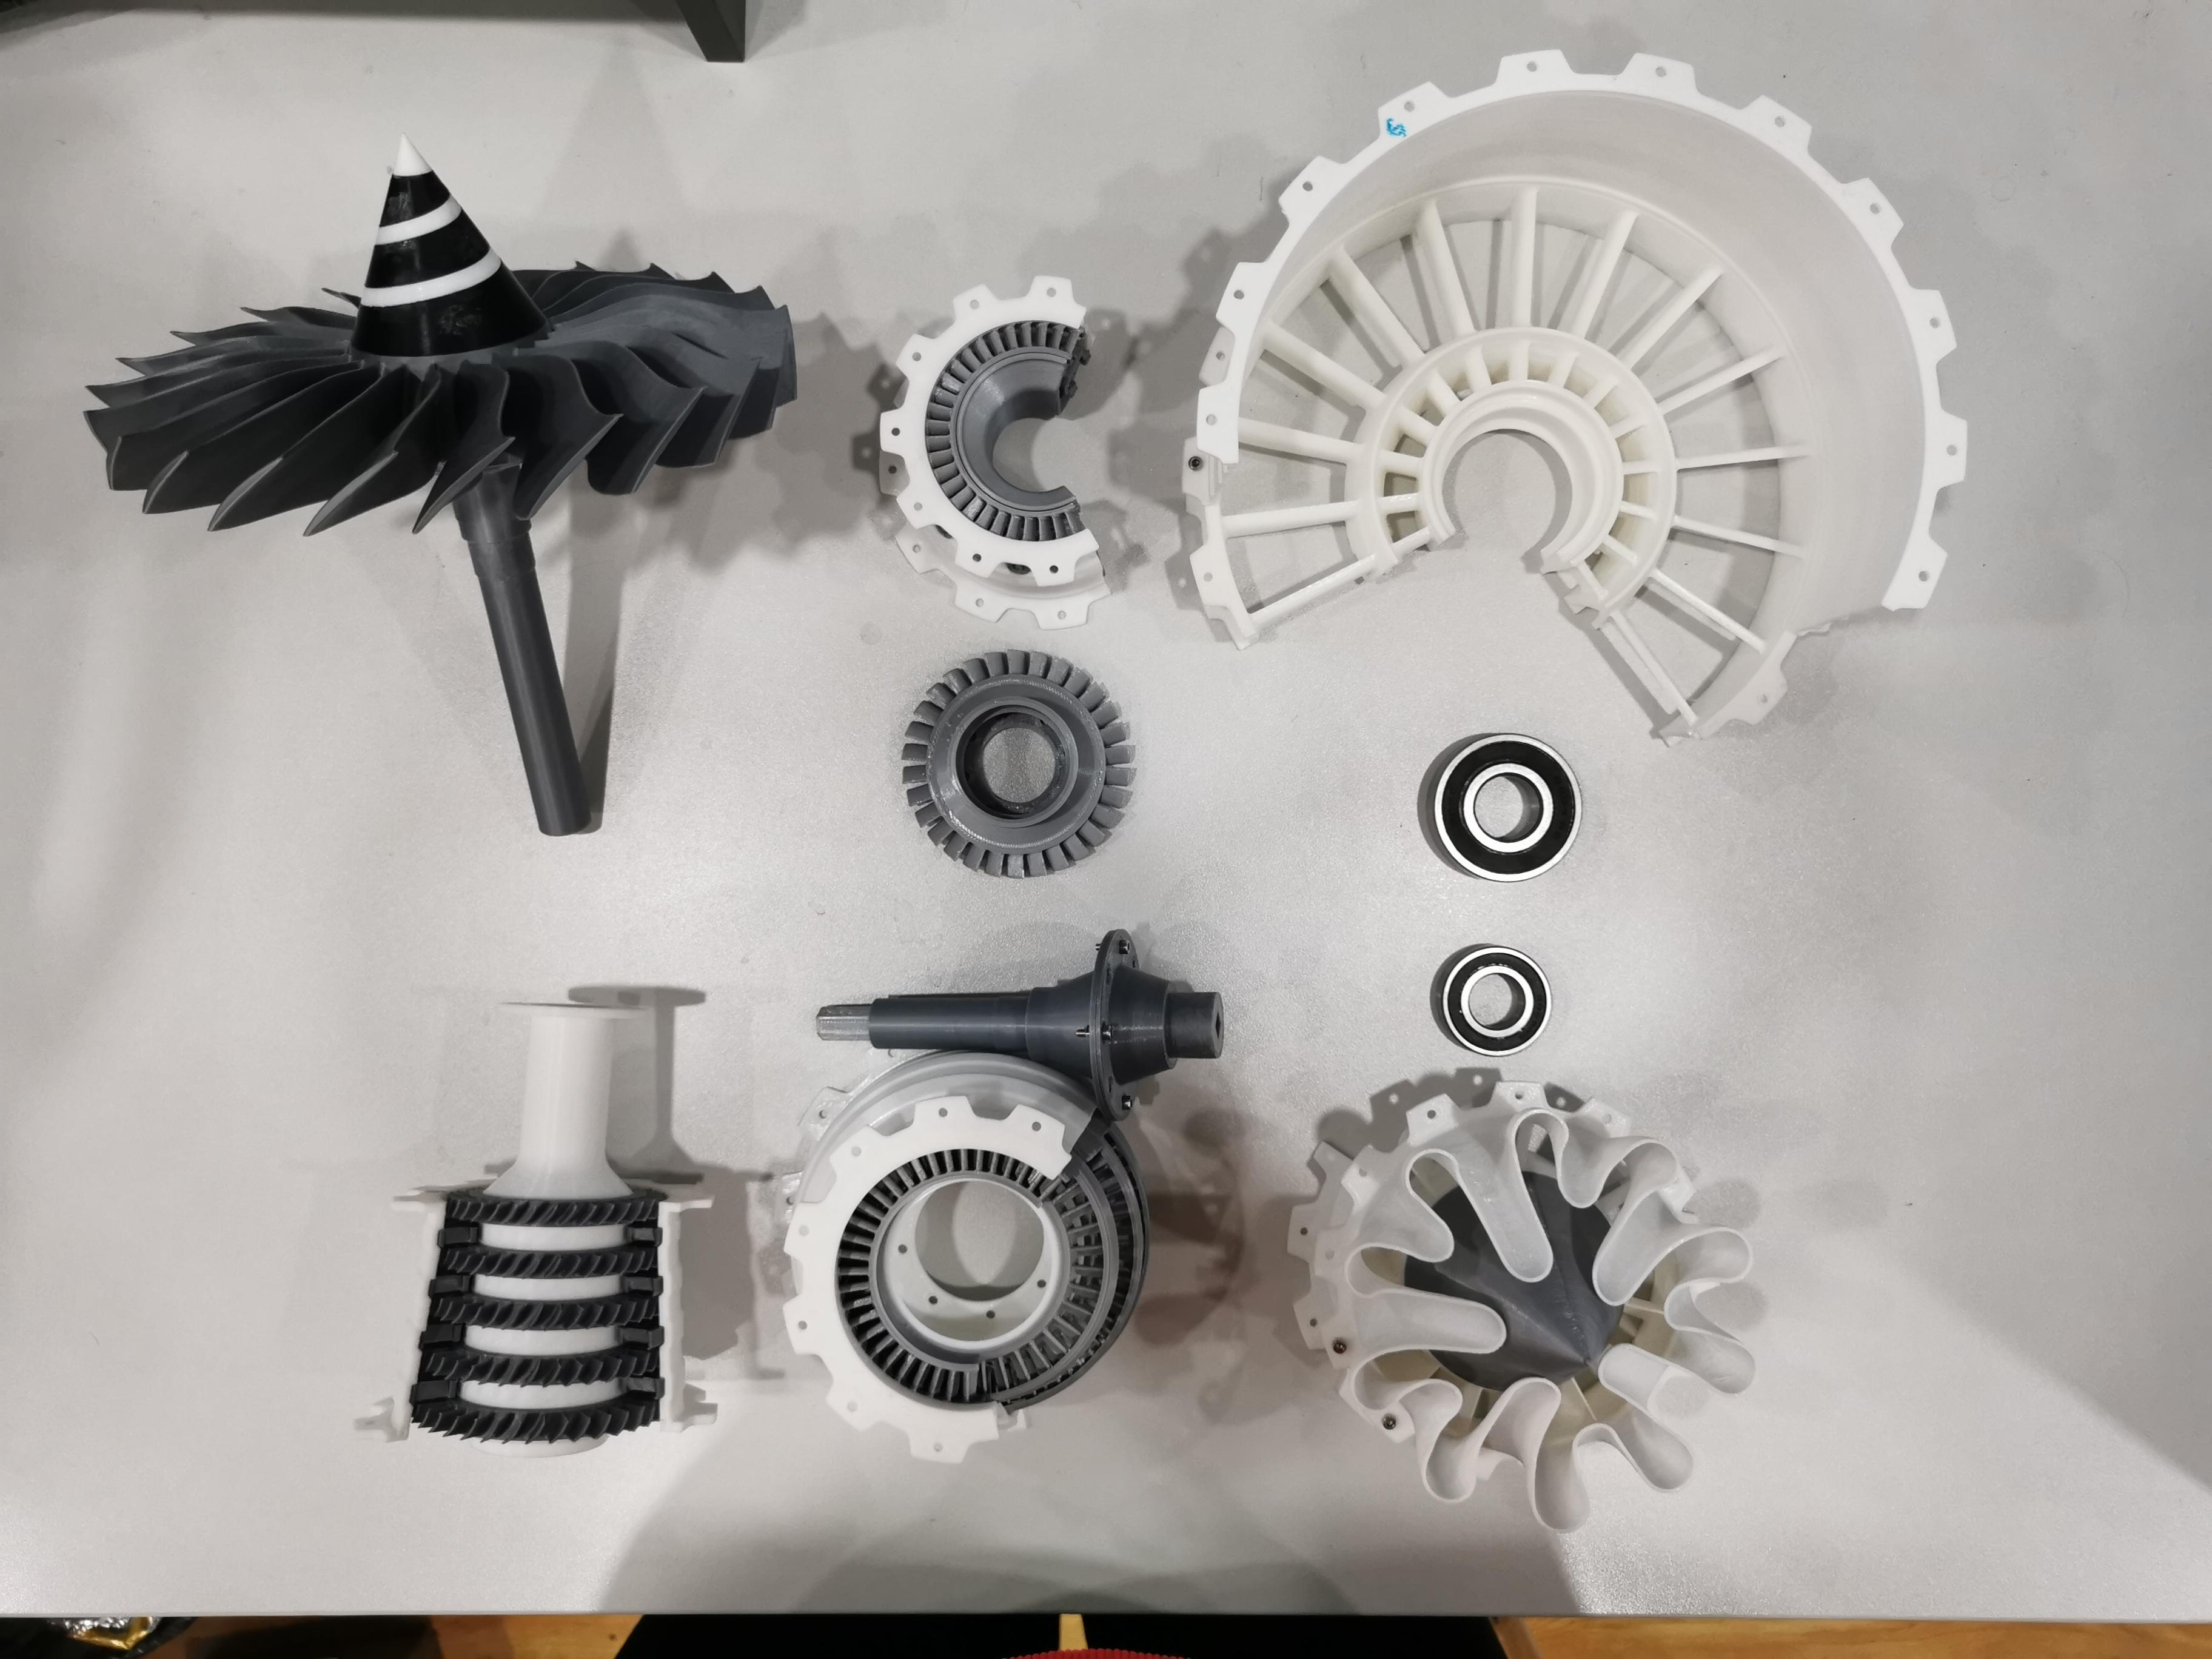Bearing-6003: (1421, 936, 1566, 1063)
Bearing-6204: (1407, 720, 1594, 903)
Combustion Section: (862, 261, 1134, 636)
Fan Casing and Support: (1174, 44, 1980, 751)
Fan and Low Pressure Shaft: (73, 125, 808, 842)
HPT Section: (866, 640, 1153, 887)
High Pressure Spool: (341, 985, 719, 1462)
LPT Section: (768, 1025, 1162, 1471)
Low Pressure Spool: (799, 922, 1235, 1122)
Nozzle Section: (1282, 1075, 1770, 1542)
